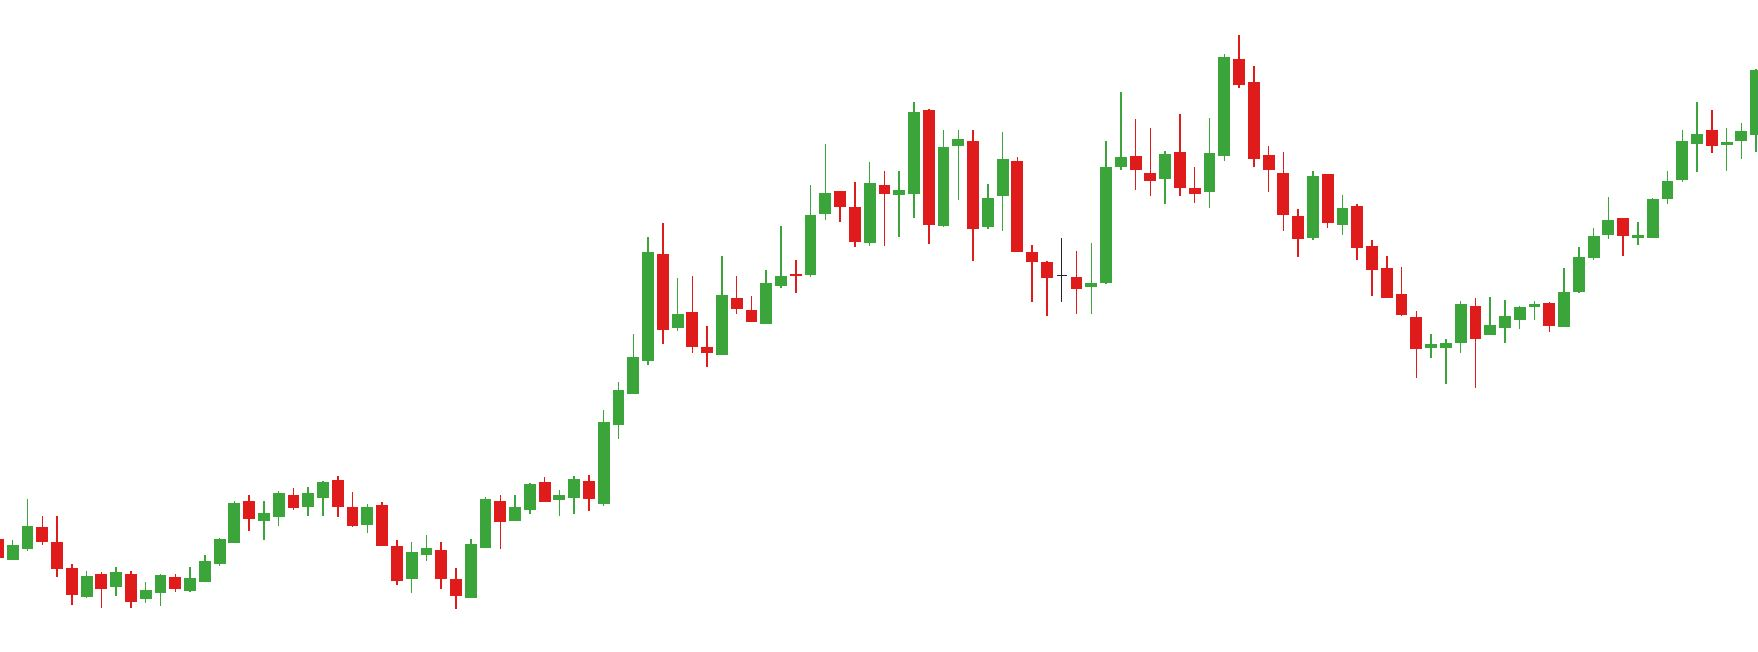sell: (1113, 34, 1260, 143)
